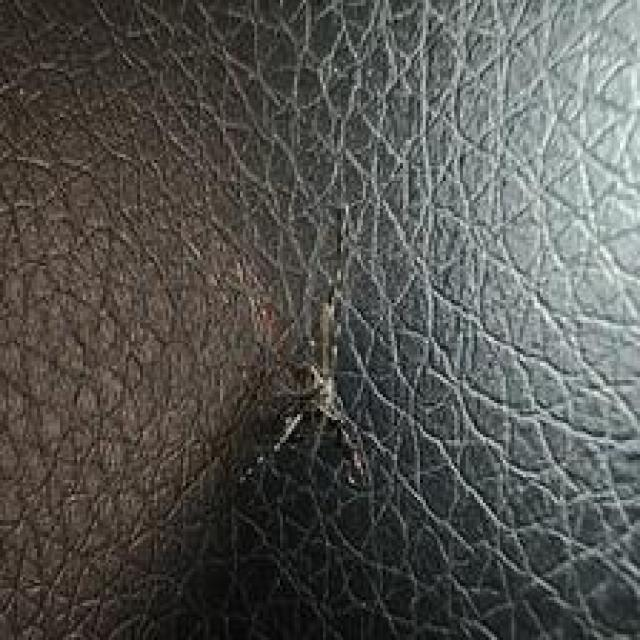Aedes albopictus: (266, 292, 374, 488)
